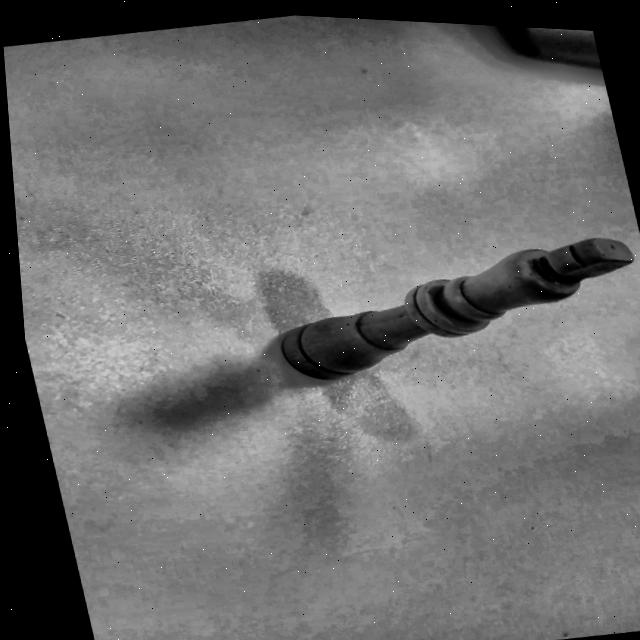white-king: (230, 208, 640, 407)
